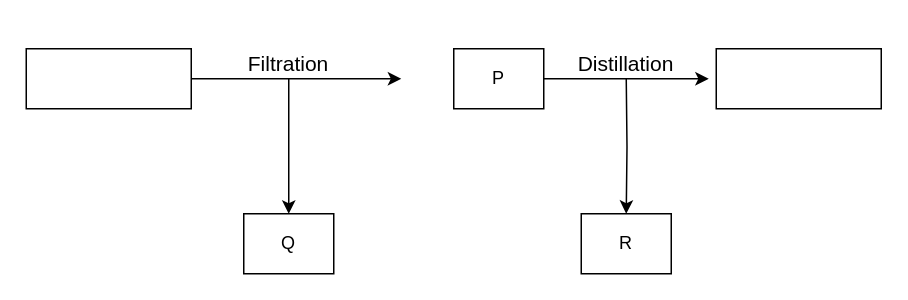
This 908x300 diagram has some shape labels left out. Here are the shapes that lost their labels. From the top down, the centre of each, then its label:
At point 108,78: "MIXTURE".
At point 798,78: "WATER".
